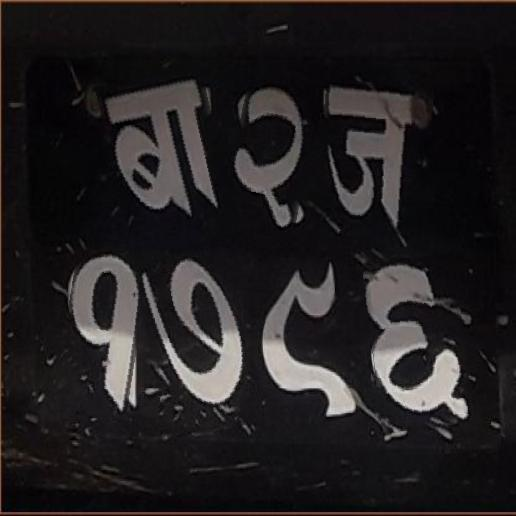1: (59, 237, 147, 420)
2: (226, 80, 316, 238)
6: (366, 255, 469, 431)
7: (142, 249, 254, 437)
9: (254, 249, 365, 437)
ba: (103, 68, 226, 232)
ja: (317, 80, 431, 247)
